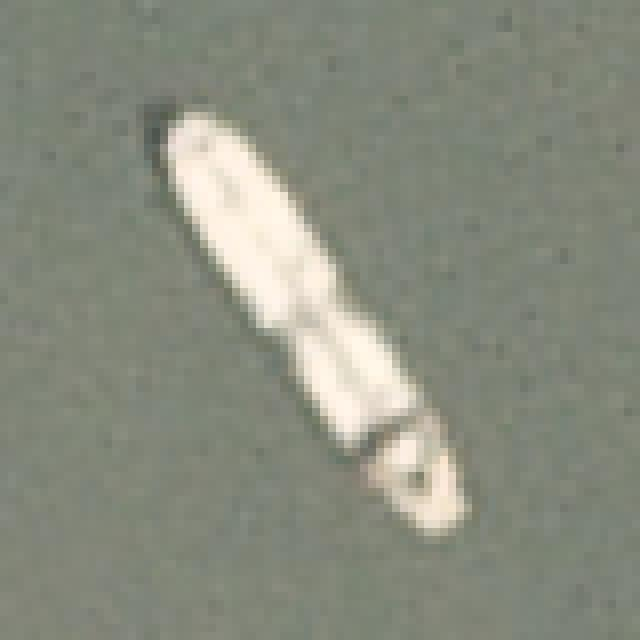ship: (106, 53, 518, 569)
